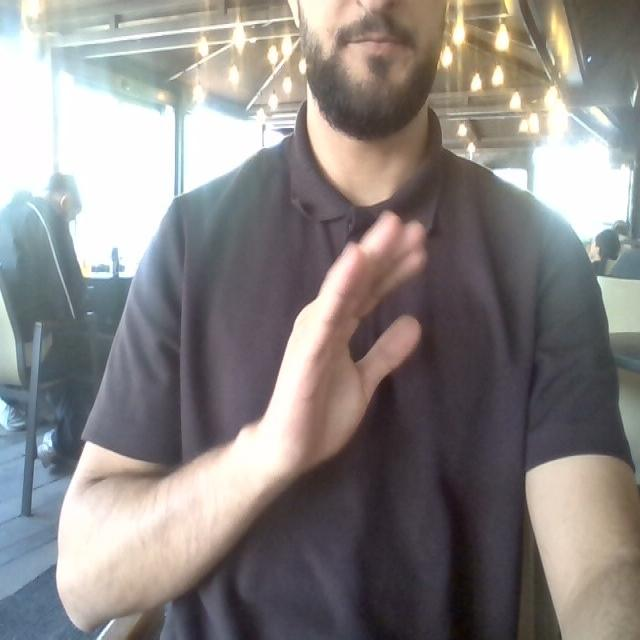Hand: (255, 212, 426, 475)
